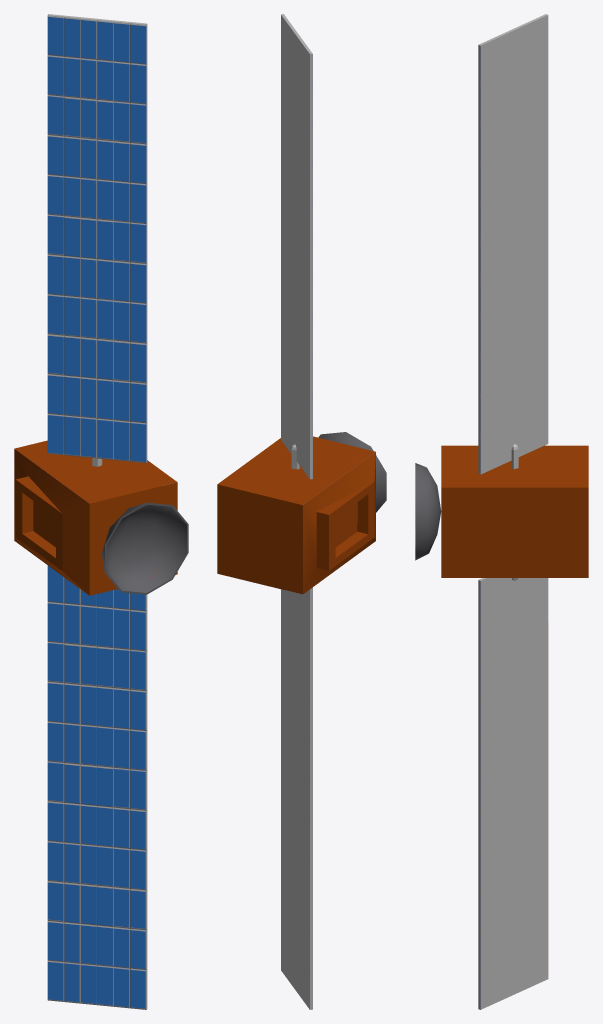
The picture shows the model from 3 angles, left to right: view 1: azimuth 30°, elevation 25°; view 2: azimuth 150°, elevation 25°; view 3: azimuth 270°, elevation 25°; orthographic projection. The views are drawn at different scales.
Parts seen in each view (by area): view 1: Satellite; view 2: Satellite; view 3: Satellite.
Boxes of the visible parts, box(x1,y1,x2,y2) form: Satellite: box(14, 14, 188, 1009); Satellite: box(217, 14, 386, 1009); Satellite: box(415, 14, 588, 1009).
Size of the model in its own units: 2.29 by 21.38 by 3.48.
Materials: 1 (1 with a texture image).
